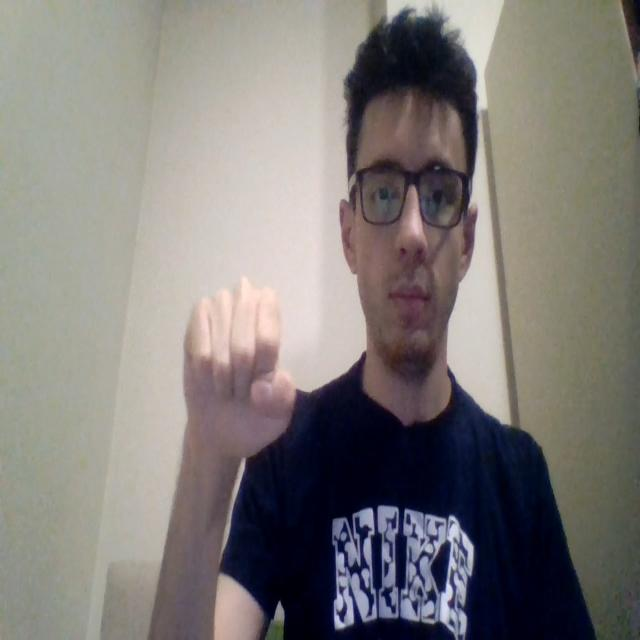yes: (182, 274, 296, 460)
